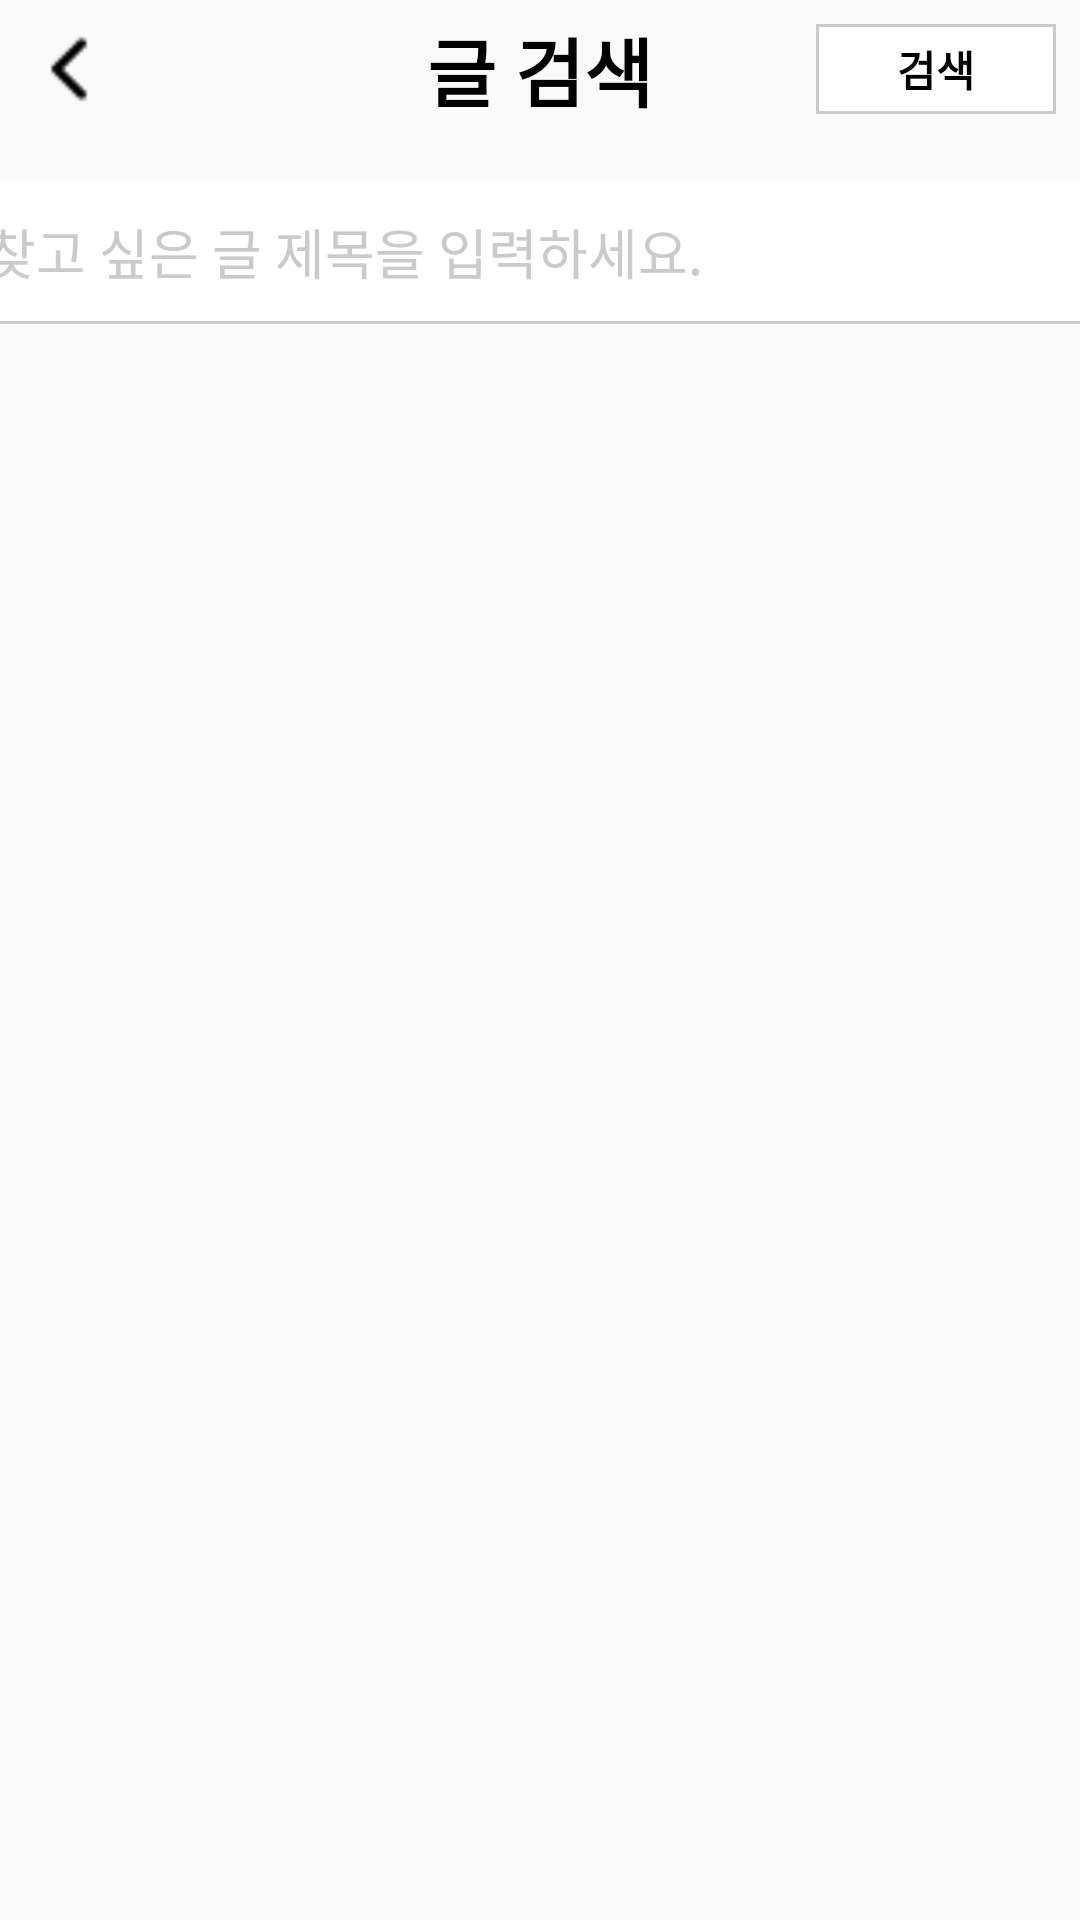

Icons on this 1080x1920 Android screen, each with its box as {"x1": x1, "y1": y1, "x2": x2, "y2": y2}:
back: {"x1": 50, "y1": 37, "x2": 88, "y2": 101}
